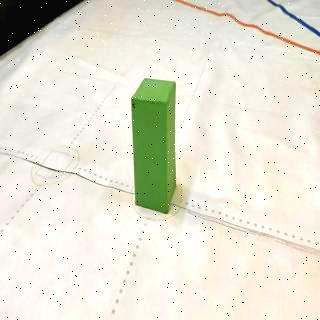greenbox: (131, 77, 178, 214)
